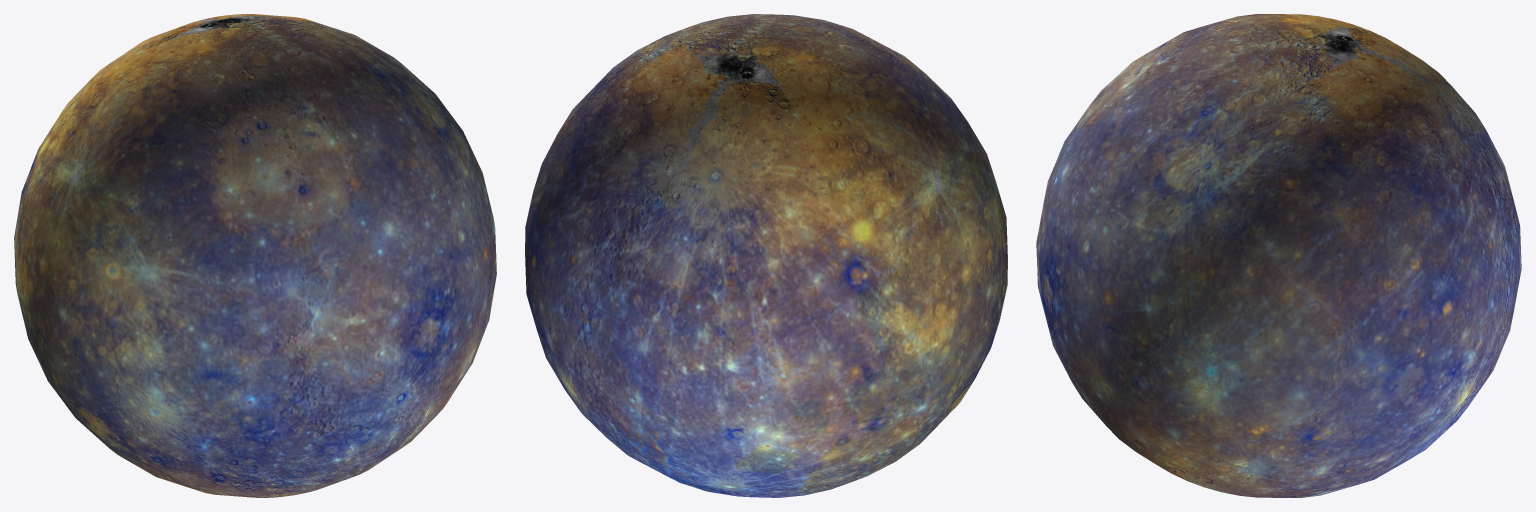
File: planetamercurio-1_9rRPOti.glb
3 renders of one model, left to right at view 1: azimuth 30°, elevation 25°; view 2: azimuth 150°, elevation 25°; view 3: azimuth 270°, elevation 25°, orthographic.
Parts seen in each view (by area): view 1: Node1; view 2: Node1; view 3: Node1.
Part boxes in pixels (<box>): Node1: <box>14,14,496,497</box>; Node1: <box>525,14,1007,497</box>; Node1: <box>1036,14,1521,497</box>.
Bounding box in the file's own units: 100 × 99.8 × 99.79.
Materials: 1 (1 with a texture image).
